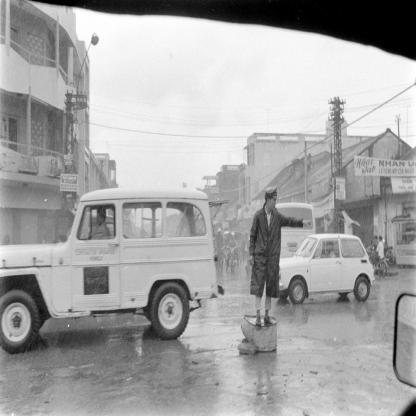Car: (0, 2, 416, 416), (278, 235, 374, 305)
